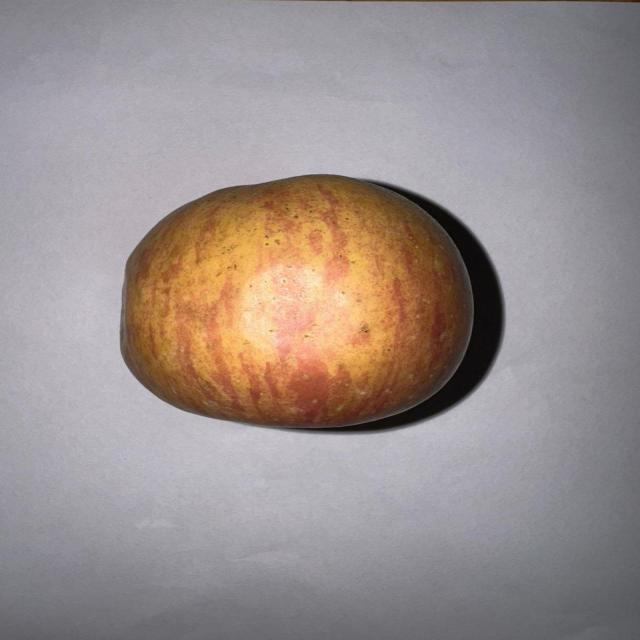fresh_apple: (120, 173, 478, 427)
